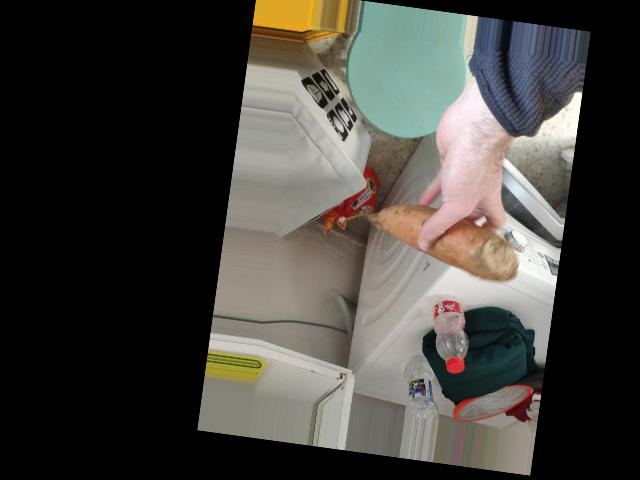sweet_potato: (357, 208, 521, 274)
